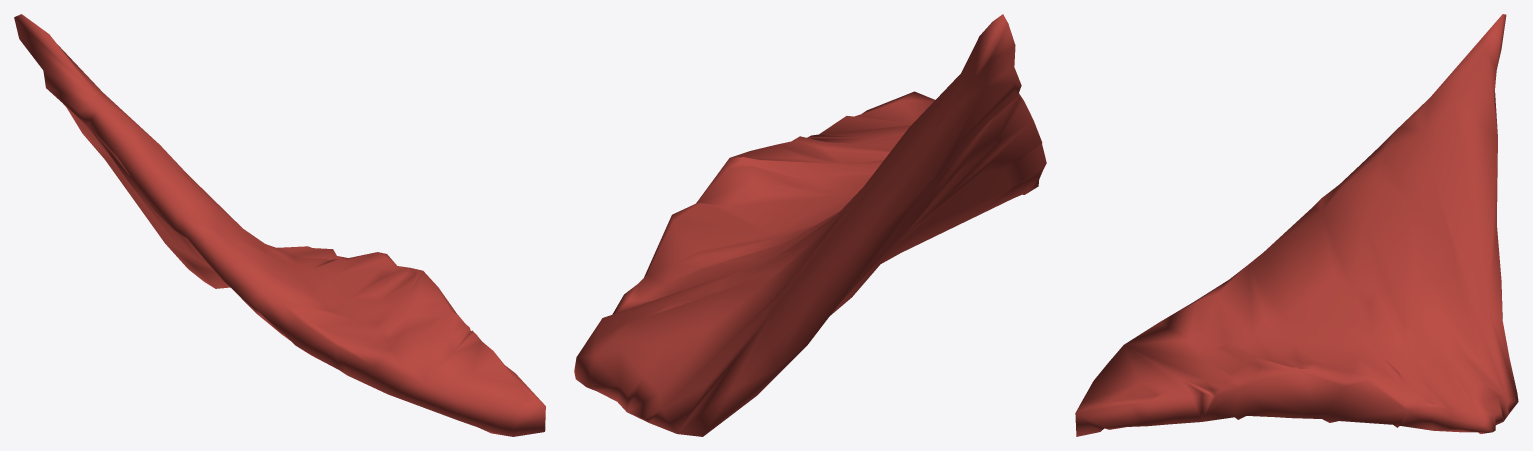
File: musculos-mylohyoid-muscle-r.glb
3 renders of one model, left to right at view 1: azimuth 30°, elevation 25°; view 2: azimuth 150°, elevation 25°; view 3: azimuth 270°, elevation 25°, orthographic. The views are drawn at different scales.
Parts seen in each view (by area): view 1: Mylohyoid muscle.r; view 2: Mylohyoid muscle.r; view 3: Mylohyoid muscle.r.
Boxes of the visible parts, box(x1,y1,x2,y2) form: Mylohyoid muscle.r: box(14, 14, 545, 436); Mylohyoid muscle.r: box(574, 14, 1046, 436); Mylohyoid muscle.r: box(1075, 14, 1518, 436).
Size of the model in its own units: 0.0269 by 0.028 by 0.0378.
